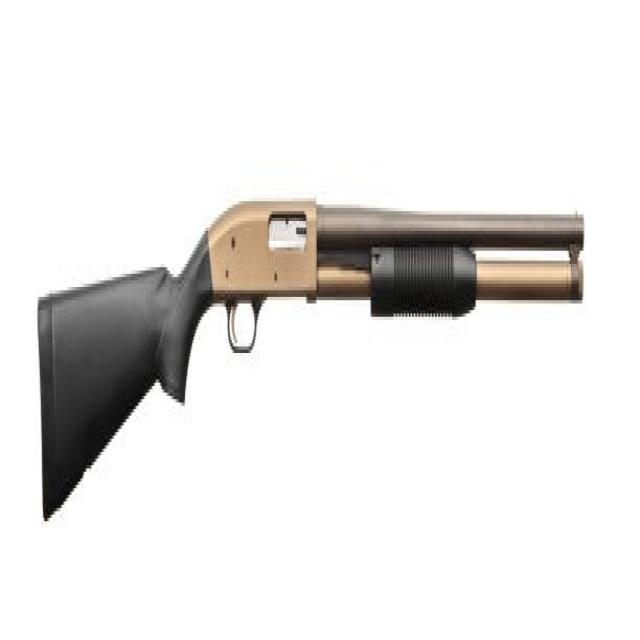rifle: (33, 173, 590, 541)
